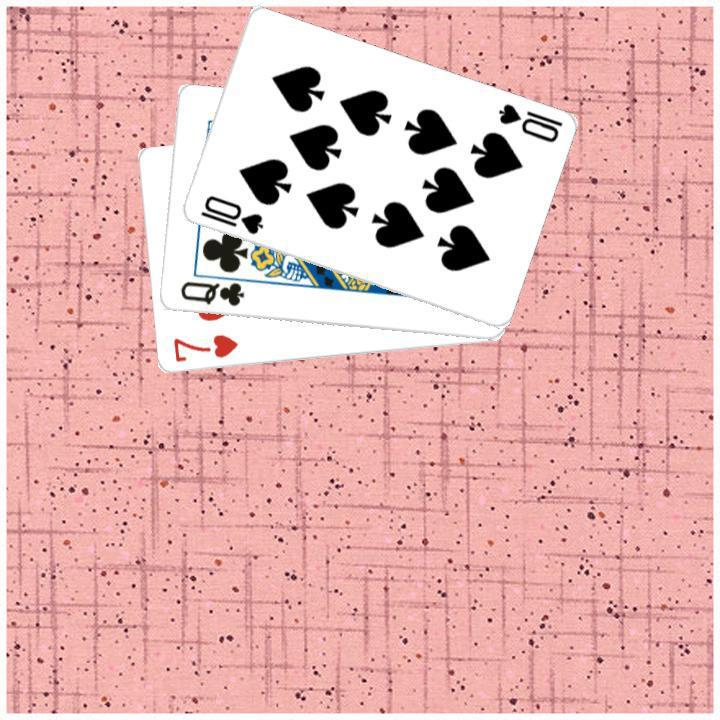10: (492, 99, 564, 145), (195, 191, 265, 237)
7: (168, 331, 240, 364)
Q: (176, 277, 246, 309)
